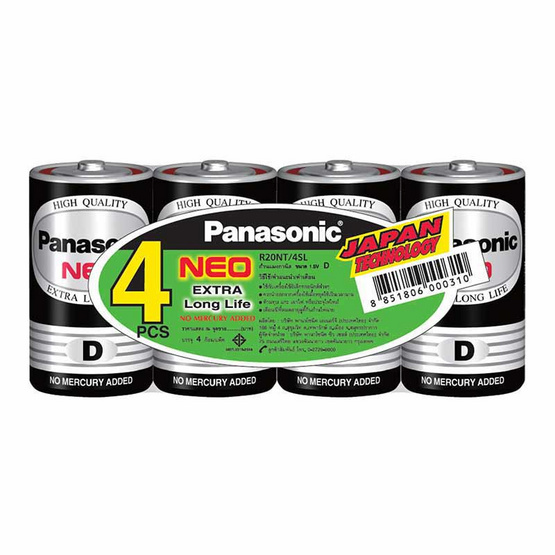Battery: (24, 157, 155, 398), (401, 160, 527, 398)
